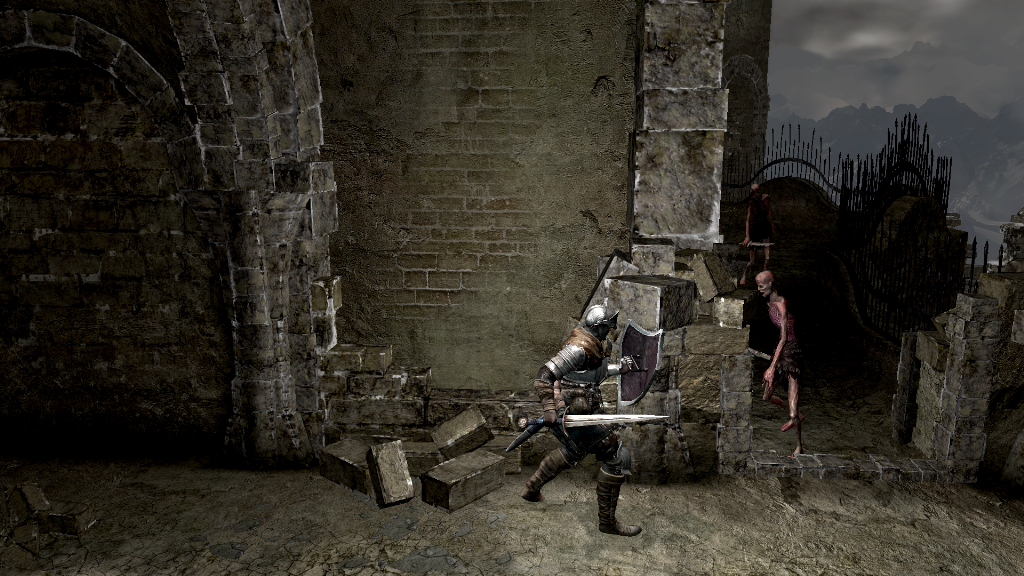hollow: (754, 269, 806, 456), (737, 182, 774, 285)
player: (517, 302, 672, 538)
